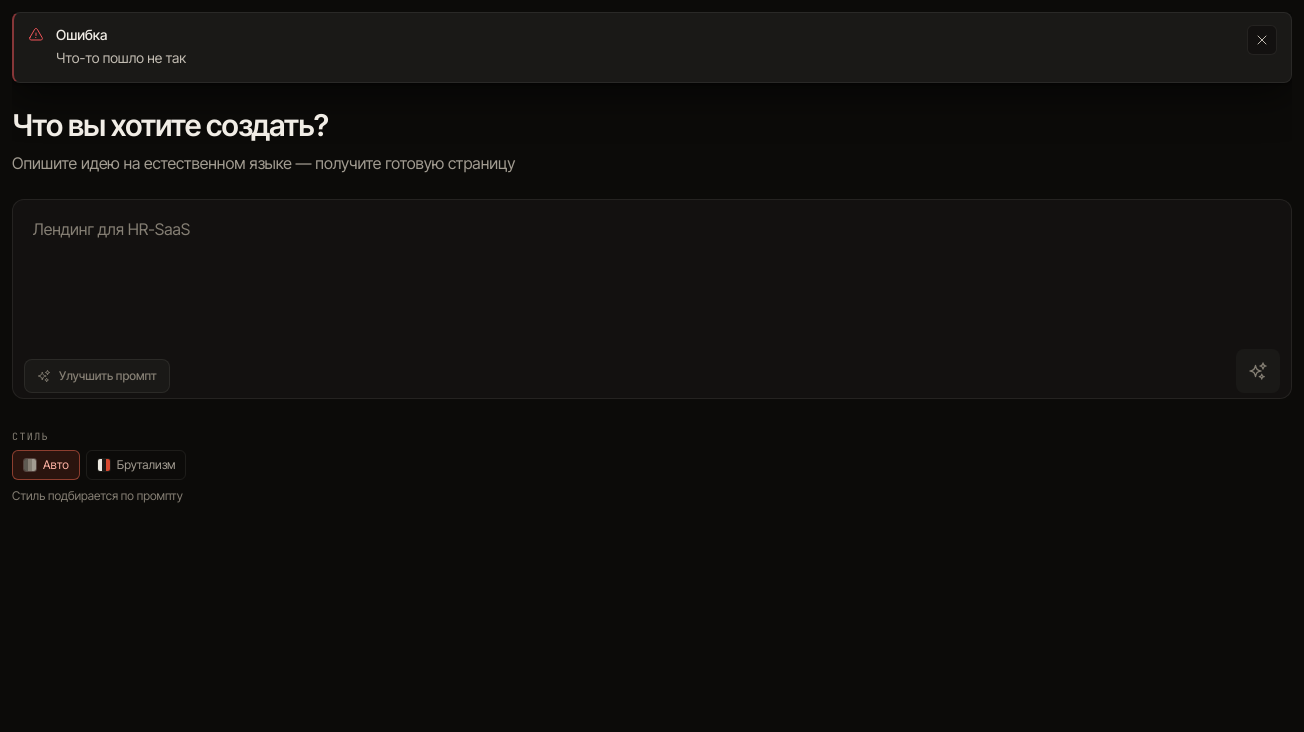
Scenario: PromptInput › shows the error alert and dismisses it
Expected: the message shows "Что-то пошло не так", 56,49 -> 186,66
Click the button named "Закрыть сообщение об ошибке": point(1262, 40) 1247,25 -> 1277,55
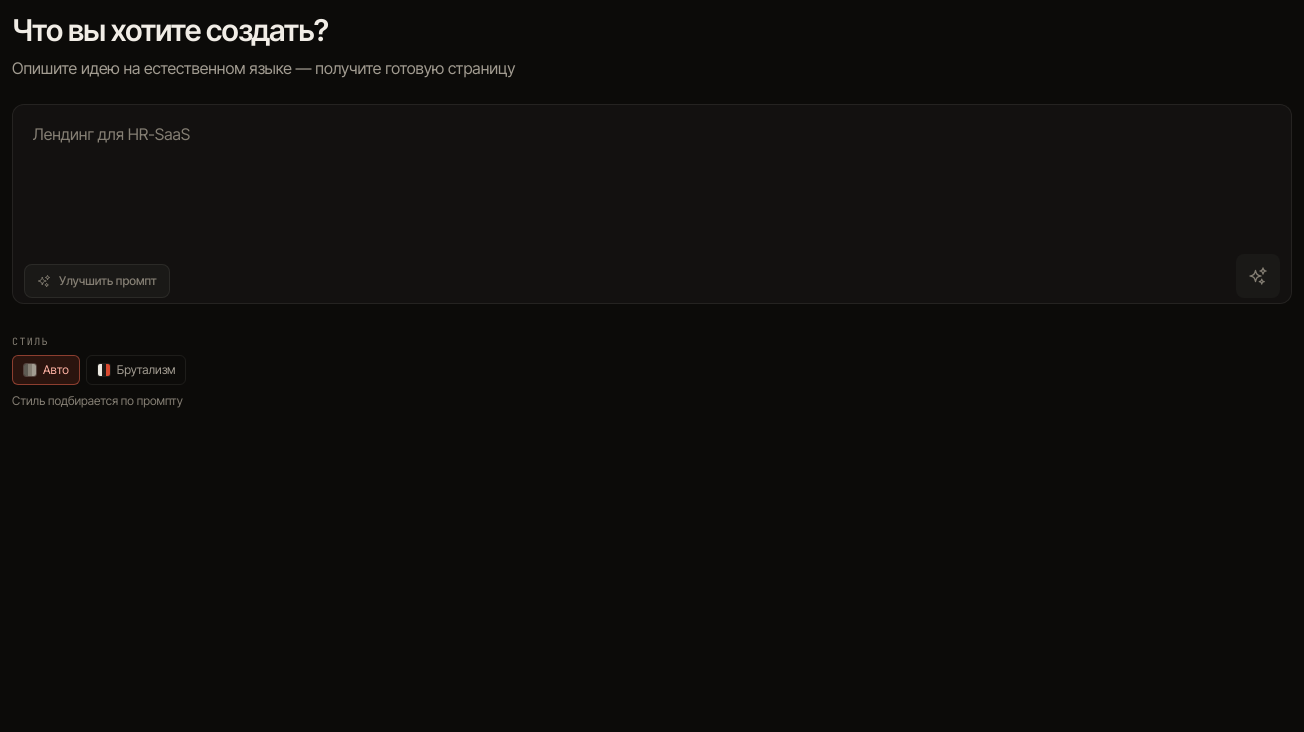
Now the message "Ошибка Что-то пошло не так" is gone
